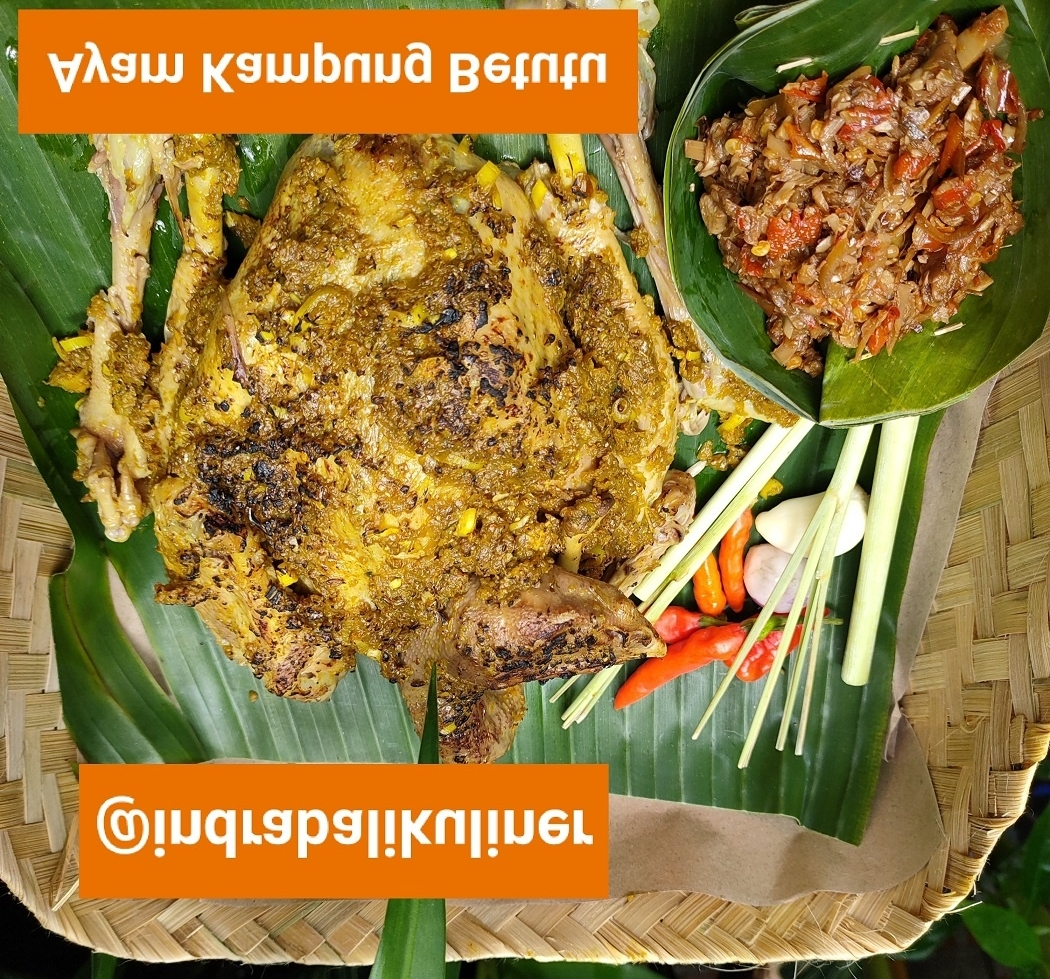ayam_betutu: (50, 135, 677, 752)
